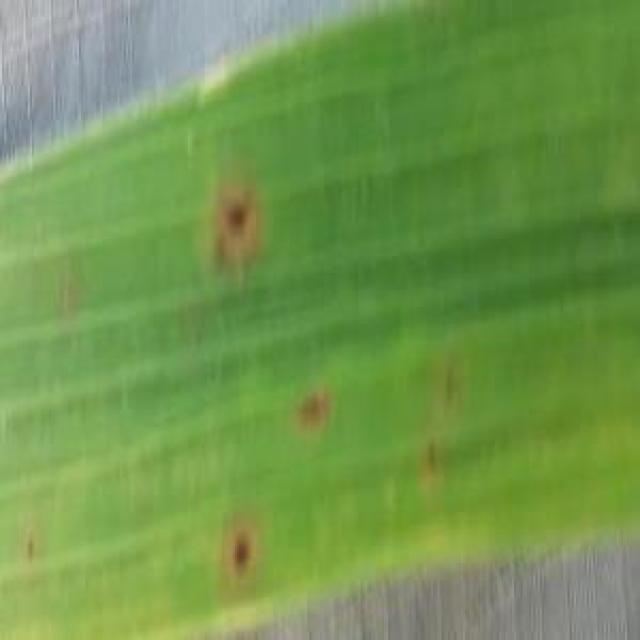Brown_Spot: (198, 176, 278, 266), (208, 506, 272, 585), (428, 354, 464, 407), (290, 391, 337, 430), (409, 434, 464, 466)
